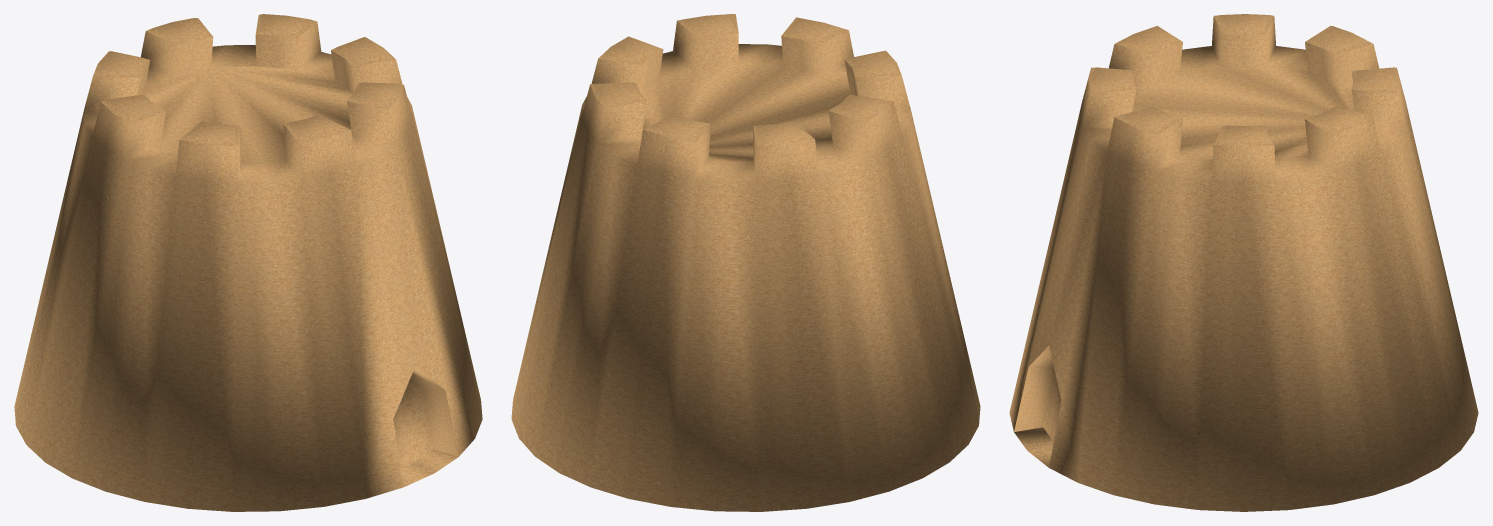
The model's file is Sand_Bucket.fbx.
3 renders of one model, left to right at view 1: azimuth 30°, elevation 25°; view 2: azimuth 150°, elevation 25°; view 3: azimuth 270°, elevation 25°, orthographic.
Visible parts, largest first — view 1: cylinder.001; view 2: cylinder.001; view 3: cylinder.001.
Part boxes in pixels (x1,y1,x2,y2): cylinder.001: (14, 14, 482, 511); cylinder.001: (511, 14, 980, 511); cylinder.001: (1009, 14, 1478, 511).
Size of the model in its own units: 28466 by 22838 by 28466.
